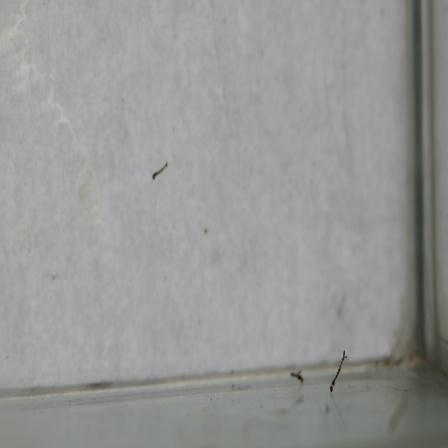Jentik-Nyamuk: (326, 348, 349, 393), (147, 158, 173, 183), (287, 365, 308, 385)
